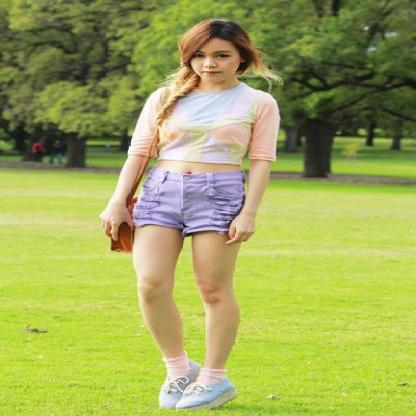bag: (108, 175, 142, 250)
shirt: (128, 82, 280, 164)
shoe: (158, 351, 235, 408)
shorts: (132, 167, 244, 252)
